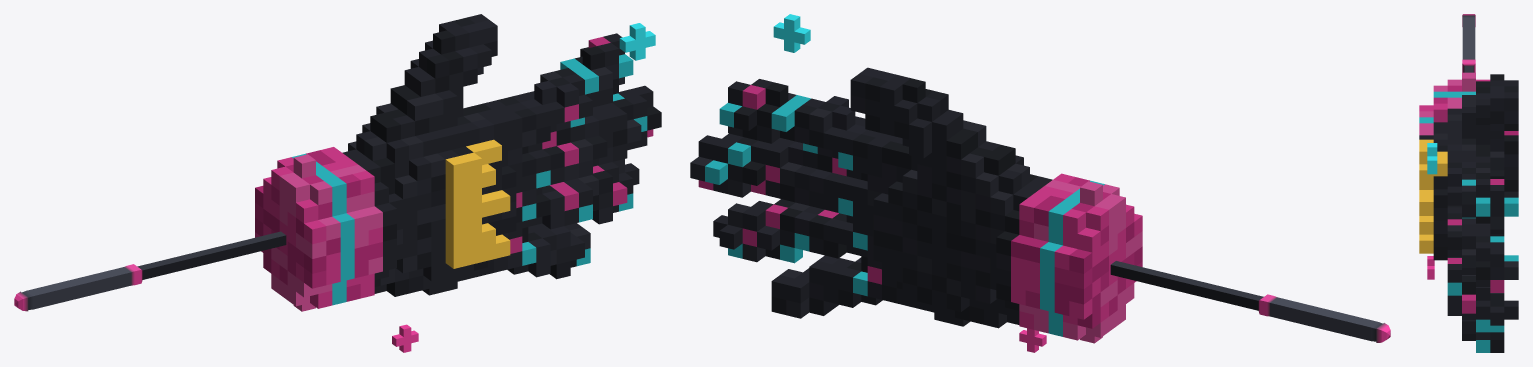
File: glove_pixel.glb
The picture shows the model from 3 angles, left to right: view 1: azimuth 30°, elevation 25°; view 2: azimuth 150°, elevation 25°; view 3: azimuth 270°, elevation 25°; orthographic projection. The views are drawn at different scales.
Parts seen in each view (by area): view 1: Glove, Glow, Stick; view 2: Glove, Stick, Glow; view 3: Glove, Glow, Stick.
Boxes of the visible parts, x1=… form: Glove: x1=255, y1=14, x2=661, y2=311; Glow: x1=392, y1=23, x2=655, y2=352; Stick: x1=14, y1=231, x2=286, y2=311; Glove: x1=690, y1=67, x2=1142, y2=343; Stick: x1=1110, y1=261, x2=1390, y2=342; Glow: x1=773, y1=14, x2=1046, y2=352; Glove: x1=1419, y1=72, x2=1518, y2=352; Glow: x1=1419, y1=139, x2=1447, y2=279; Stick: x1=1462, y1=14, x2=1475, y2=72.
Bounding box in the file's own units: 1.17 × 0.4627 × 0.1785.
